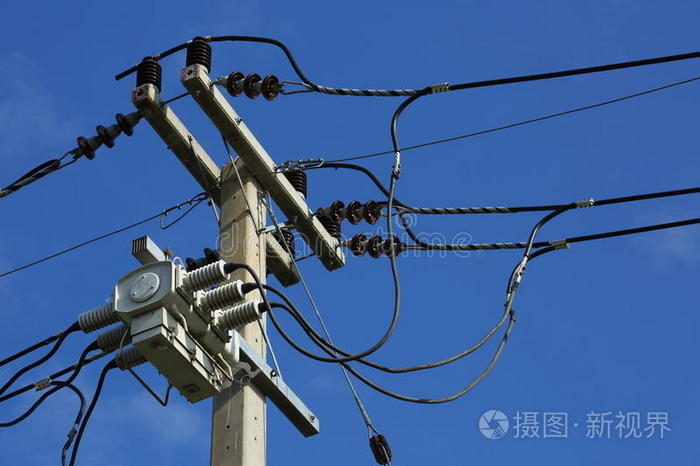insulator: (72, 111, 133, 161), (224, 68, 280, 103), (346, 229, 400, 261), (329, 196, 382, 224)
